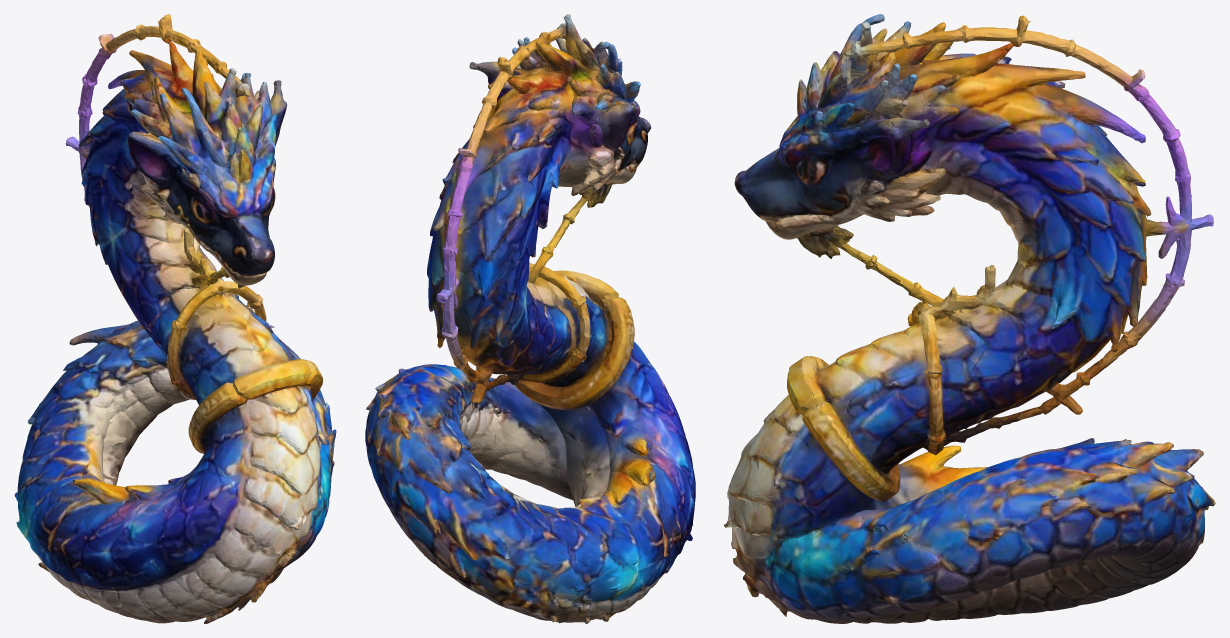
File: astrakai.glb
3 renders of one model, left to right at view 1: azimuth 30°, elevation 25°; view 2: azimuth 150°, elevation 25°; view 3: azimuth 270°, elevation 25°, orthographic. The views are drawn at different scales.
Visible parts, largest first — view 1: plush; view 2: plush; view 3: plush.
Part boxes in pixels (box(x1,y1,x2,y2)): plush: box(14, 14, 336, 623); plush: box(365, 14, 695, 623); plush: box(724, 14, 1215, 623).
Bounding box in the file's own units: 0.5197 × 0.9799 × 0.6725.
1 material, 1 textured.
